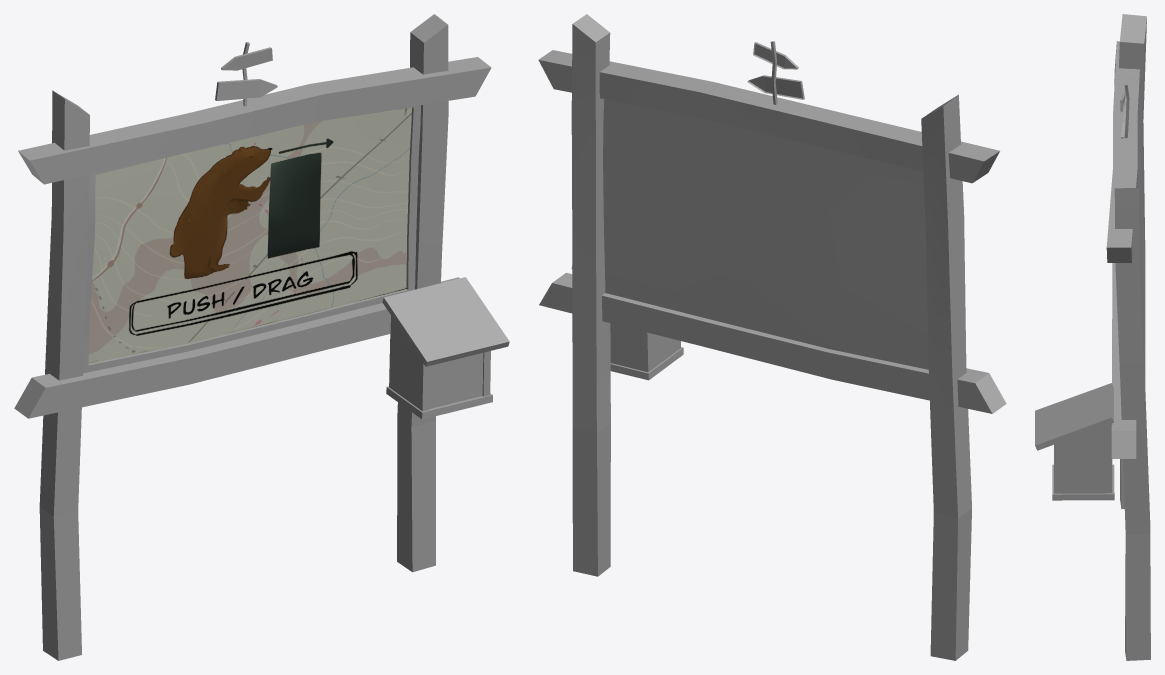
The model's file is Post_small_Push.fbx.
The picture shows the model from 3 angles, left to right: view 1: azimuth 30°, elevation 25°; view 2: azimuth 150°, elevation 25°; view 3: azimuth 270°, elevation 25°; orthographic projection. The views are drawn at different scales.
Visible parts, largest first — view 1: Post_Small; view 2: Post_Small; view 3: Post_Small.
Part boxes in pixels (x1,y1,x2,y2): Post_Small: (14, 14, 509, 660); Post_Small: (538, 14, 1006, 660); Post_Small: (1035, 14, 1150, 660).
Bounding box in the file's own units: 4.77 × 5.63 × 1.19.
Materials: 2 (1 with a texture image).
